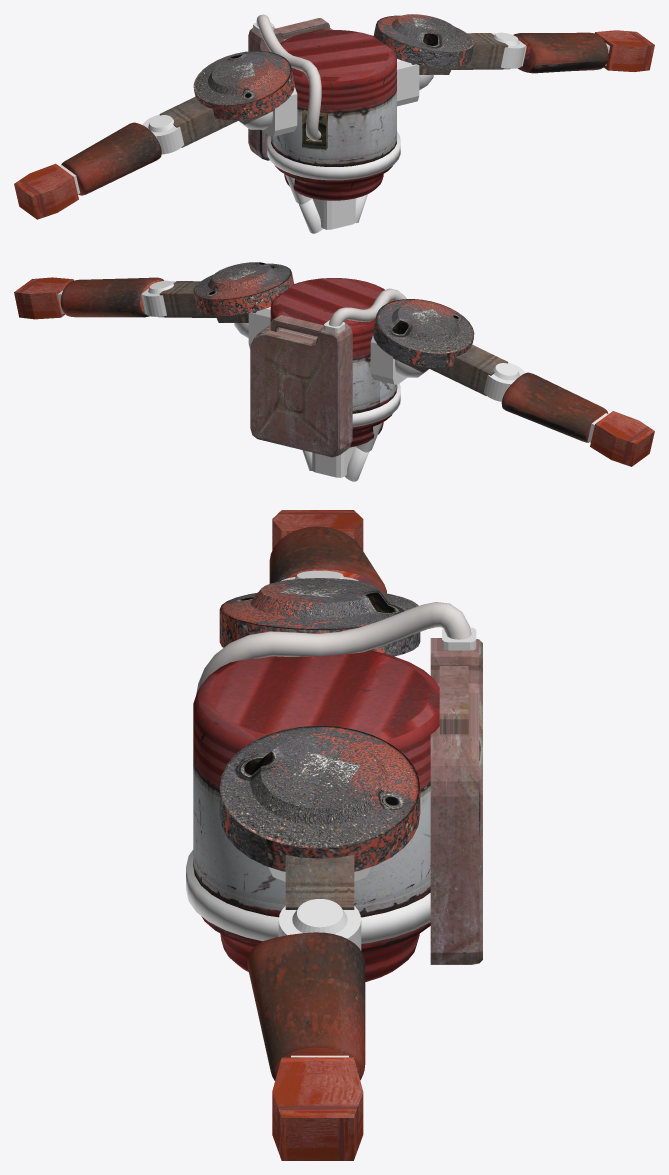
Rendered from Robot 1Body.fbx.
3 renders of one model, top to bottom at view 1: azimuth 30°, elevation 25°; view 2: azimuth 150°, elevation 25°; view 3: azimuth 270°, elevation 25°, orthographic. The views are drawn at different scales.
Parts seen in each view (by area): view 1: Cylinder.003, Cylinder.001, Cylinder.013, Cylinder.005, Cylinder.015, Cube.017, Cylinder.016, Cube, BezierCurve, Cube.024, Cube.010, Cube.022 (+7 smaller); view 2: Cube.012, Cylinder.003, Cylinder.001, Cylinder.013, Cylinder.005, Cylinder.015, Cube.017, Cube.024, Cube.010, Cube, Cube.022, BezierCurve (+6 smaller); view 3: Cylinder.003, Cylinder.013, Cube.012, Cylinder.015, Cylinder.001, Cube.024, BezierCurve, Cylinder.016, Cylinder.005, Cube.022, Cylinder.014, Cube.017 (+1 smaller).
Part boxes in pixels (<box>): Cylinder.003: <box>271,30,396,200</box>; Cylinder.001: <box>193,51,294,119</box>; Cylinder.013: <box>373,14,474,67</box>; Cylinder.005: <box>61,122,161,195</box>; Cylinder.015: <box>513,32,608,73</box>; Cube.017: <box>14,163,78,219</box>; Cylinder.016: <box>267,131,400,180</box>; Cube: <box>261,59,419,136</box>; BezierCurve: <box>256,14,321,140</box>; Cube.024: <box>595,30,654,71</box>; Cube.010: <box>159,96,274,147</box>; Cube.022: <box>411,33,508,74</box>; Cube.012: <box>250,323,352,457</box>; Cylinder.003: <box>270,278,397,447</box>; Cylinder.001: <box>373,299,474,367</box>; Cylinder.013: <box>193,262,294,315</box>; Cylinder.005: <box>501,372,608,442</box>; Cylinder.015: <box>60,277,164,317</box>; Cube.017: <box>590,411,654,466</box>; Cube.024: <box>14,277,73,319</box>; Cube.010: <box>393,344,508,395</box>; Cube: <box>248,307,406,384</box>; Cube.022: <box>159,281,256,322</box>; BezierCurve: <box>329,288,406,326</box>; Cylinder.003: <box>193,650,439,981</box>; Cylinder.013: <box>219,725,420,871</box>; Cube.012: <box>430,638,482,964</box>; Cylinder.015: <box>247,932,365,1080</box>; Cylinder.001: <box>219,578,420,656</box>; Cube.024: <box>272,1057,363,1160</box>; BezierCurve: <box>196,602,471,693</box>; Cylinder.016: <box>186,850,430,943</box>; Cylinder.005: <box>269,526,386,593</box>; Cube.022: <box>285,855,354,909</box>; Cylinder.014: <box>278,899,361,950</box>; Cube.017: <box>272,510,363,550</box>.
Size of the model in its own units: 1364 by 416 by 281.
